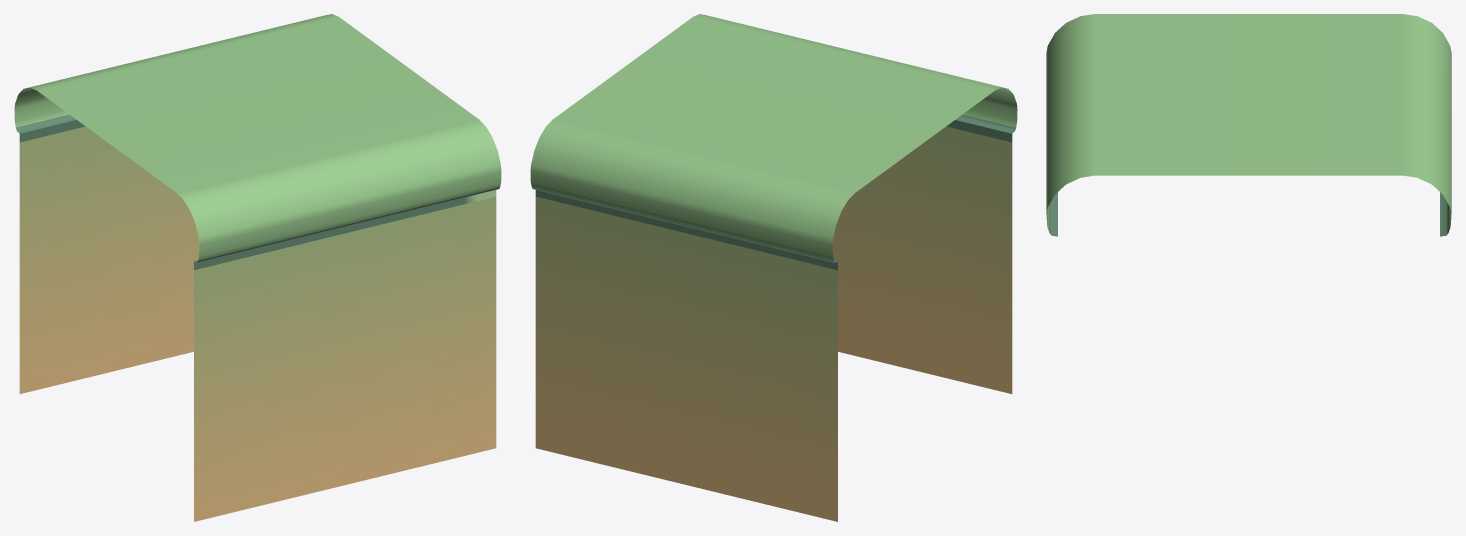
Rendered from platform_plain.fbx.
3 views of the same model, side by side, from view 1: azimuth 30°, elevation 25°; view 2: azimuth 150°, elevation 25°; view 3: azimuth 270°, elevation 25° (orthographic). The views are drawn at different scales.
Parts seen in each view (by area): view 1: platform_plain; view 2: platform_plain; view 3: platform_plain.
Boxes of the visible parts, box(x1,y1,x2,y2) form: platform_plain: box(14, 14, 501, 521); platform_plain: box(530, 14, 1017, 521); platform_plain: box(1046, 14, 1451, 236).
Bounding box in the file's own units: 100 × 100 × 106.
